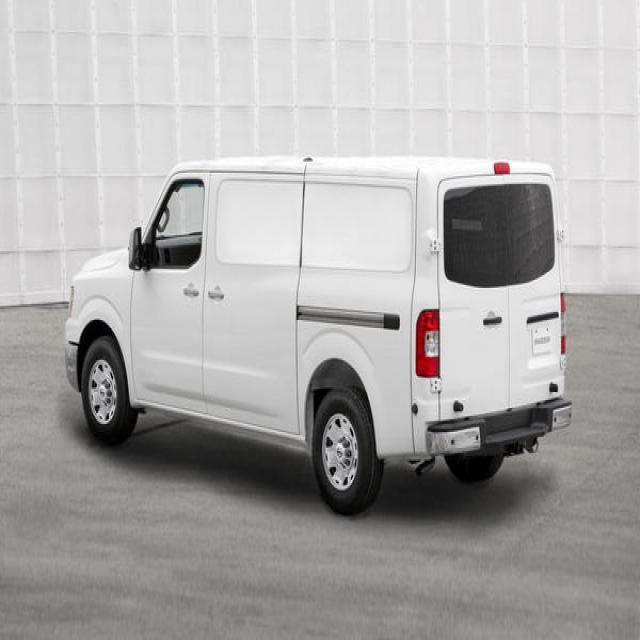Van: (42, 130, 593, 534)
